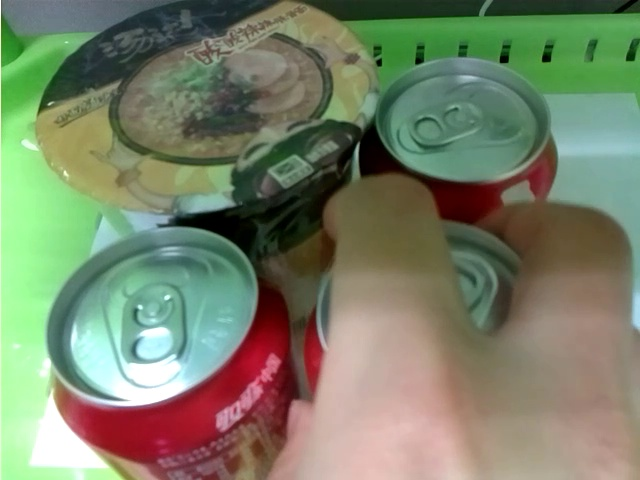cocacola: (44, 225, 300, 480), (365, 60, 559, 207), (439, 217, 521, 330)
hand: (287, 171, 640, 480)
noodles: (27, 2, 370, 306)
